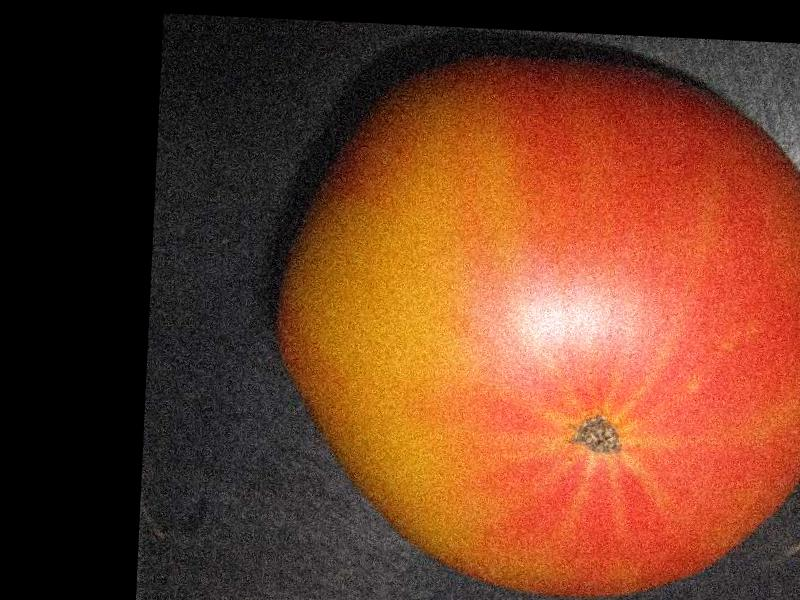Tomato: (272, 42, 800, 600)
